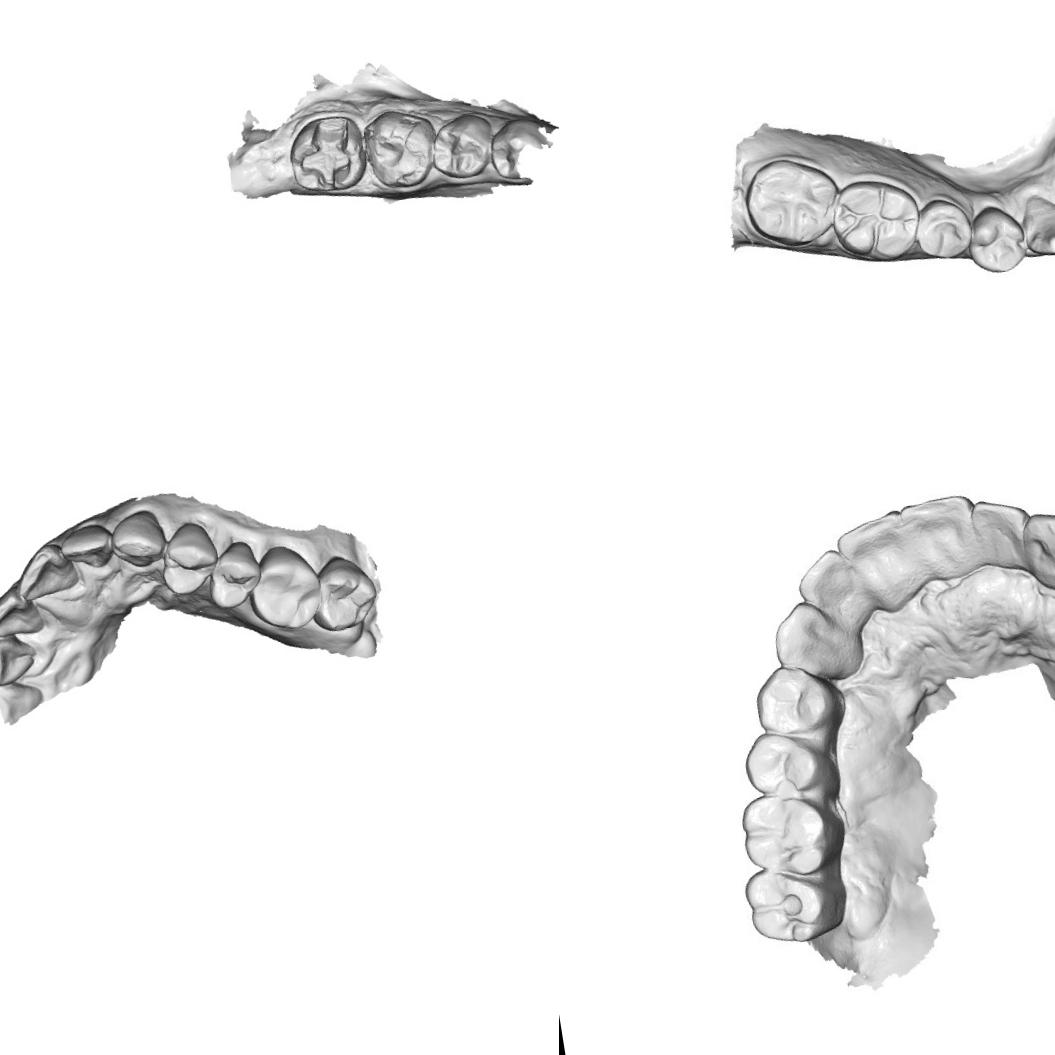canine: (769, 598, 861, 688), (105, 505, 169, 572), (1020, 511, 1055, 589), (0, 677, 49, 731), (1020, 188, 1055, 263)
incisor: (838, 510, 922, 610), (904, 491, 987, 585), (802, 547, 874, 632), (968, 493, 1034, 577), (14, 538, 84, 611), (57, 518, 118, 576), (0, 583, 43, 642), (0, 630, 39, 689)
inlay: (290, 114, 364, 194)
molar: (736, 787, 846, 886), (738, 152, 841, 252), (740, 854, 839, 952), (826, 170, 922, 265), (241, 538, 330, 637), (358, 104, 442, 194), (305, 548, 383, 636)
premolar: (739, 722, 831, 803), (748, 661, 836, 739), (154, 516, 223, 600), (426, 108, 498, 184), (964, 198, 1030, 279), (204, 537, 266, 613), (484, 114, 550, 184), (912, 195, 975, 266)
